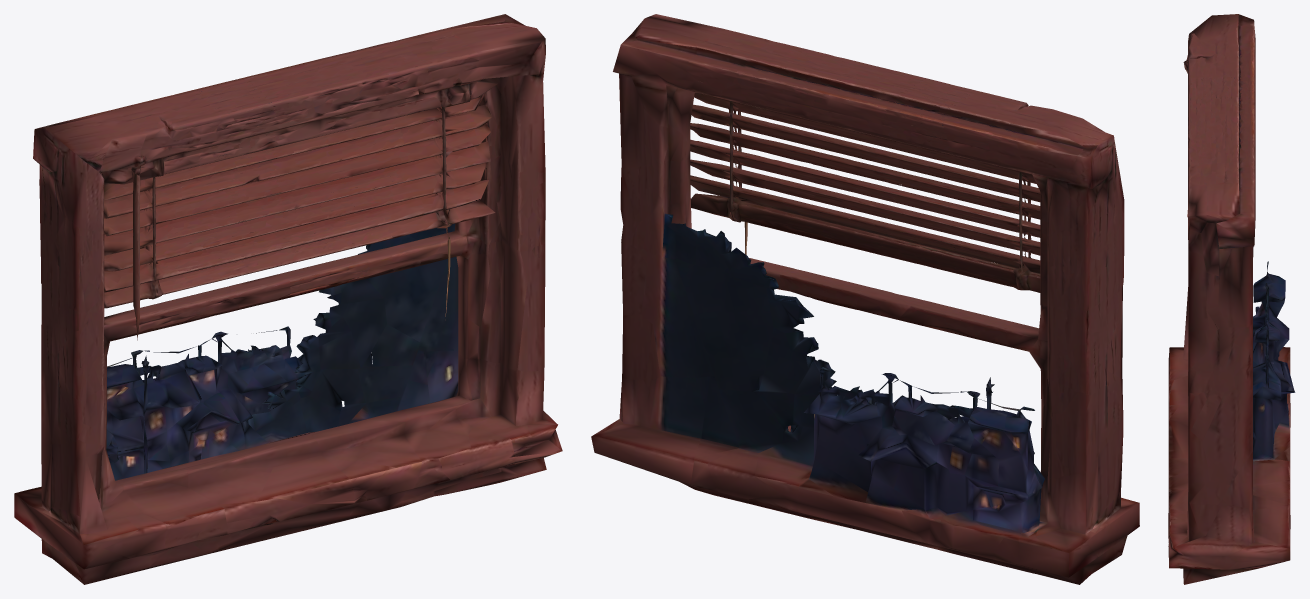
File: window.glb
3 renders of one model, left to right at view 1: azimuth 30°, elevation 25°; view 2: azimuth 150°, elevation 25°; view 3: azimuth 270°, elevation 25°, orthographic. The views are drawn at different scales.
Parts seen in each view (by area): view 1: tripo_node_3633b27b-ca01-4be1-9d0b-c86a1f9f886c; view 2: tripo_node_3633b27b-ca01-4be1-9d0b-c86a1f9f886c; view 3: tripo_node_3633b27b-ca01-4be1-9d0b-c86a1f9f886c.
Boxes of the visible parts, x1=… form: tripo_node_3633b27b-ca01-4be1-9d0b-c86a1f9f886c: x1=14, y1=14, x2=562, y2=584; tripo_node_3633b27b-ca01-4be1-9d0b-c86a1f9f886c: x1=591, y1=14, x2=1139, y2=584; tripo_node_3633b27b-ca01-4be1-9d0b-c86a1f9f886c: x1=1168, y1=14, x2=1295, y2=584.
Size of the model in its own units: 0.9756 by 0.8439 by 0.2583.
Materials: 1 (1 with a texture image).
